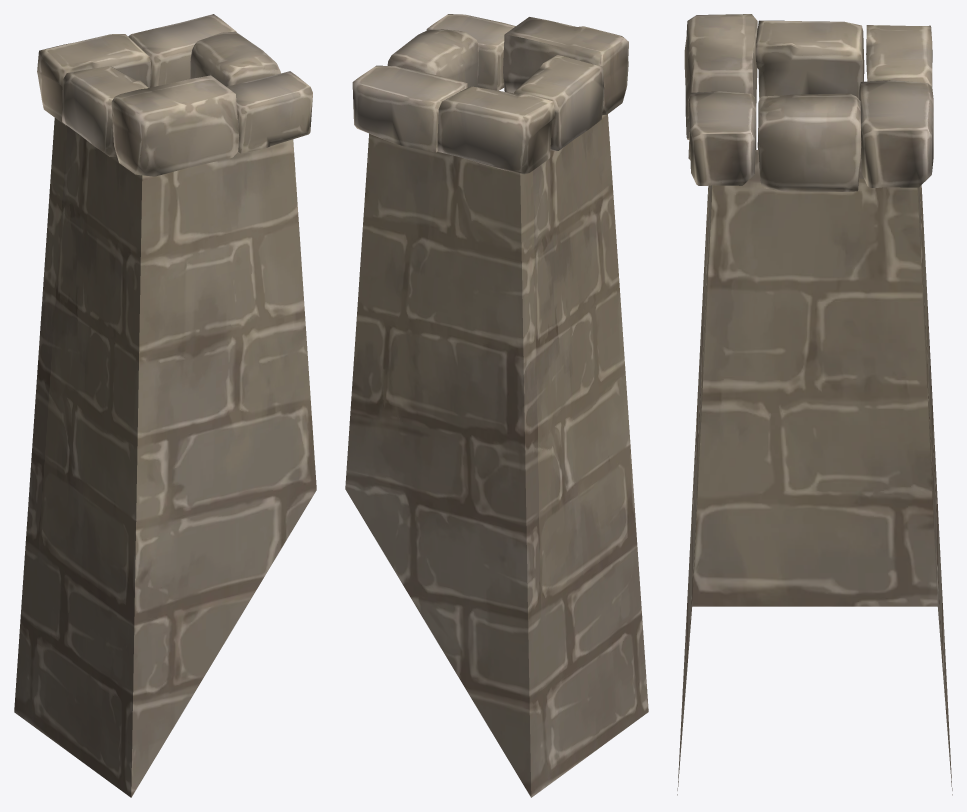
The model's file is prop-chimney.glb.
3 views of the same model, side by side, from view 1: azimuth 30°, elevation 25°; view 2: azimuth 150°, elevation 25°; view 3: azimuth 270°, elevation 25° (orthographic). The views are drawn at different scales.
Parts seen in each view (by area): view 1: Prop_Chimney; view 2: Prop_Chimney; view 3: Prop_Chimney.
Boxes of the visible parts, <box> form: Prop_Chimney: <box>14,14,316,797</box>; Prop_Chimney: <box>345,14,648,797</box>; Prop_Chimney: <box>677,14,952,795</box>.
Size of the model in its own units: 0.9458 by 3.18 by 1.
2 materials, 2 textured.
